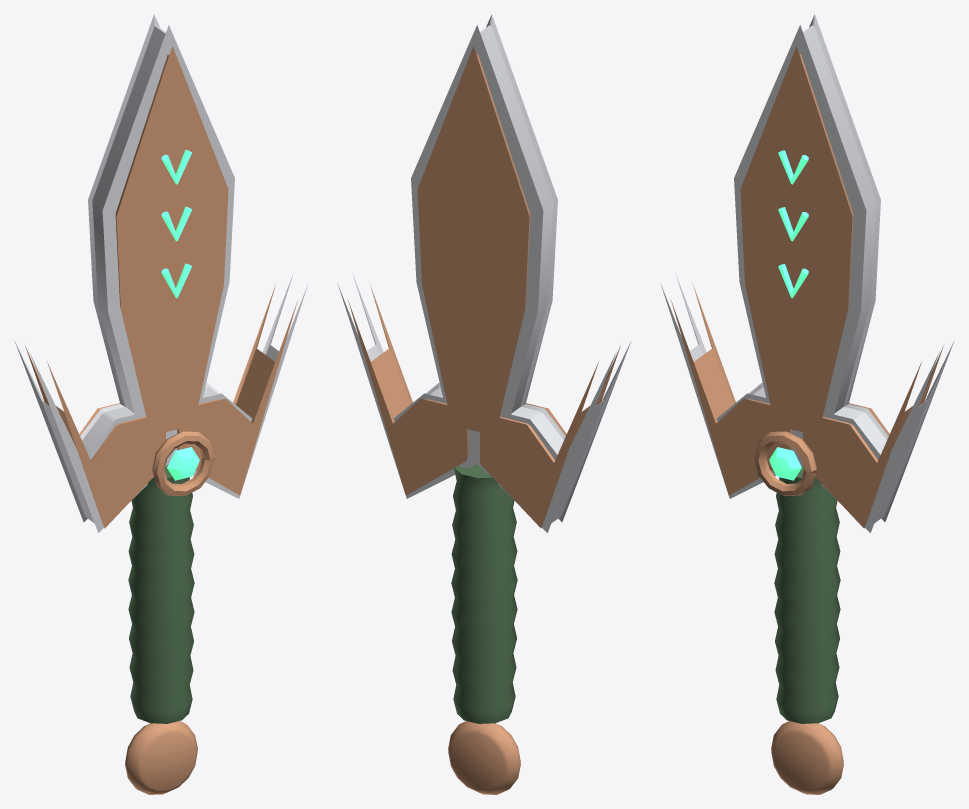
Rendered from artisan_glass_leaf_dagger.glb.
The picture shows the model from 3 angles, left to right: view 1: azimuth 30°, elevation 25°; view 2: azimuth 150°, elevation 25°; view 3: azimuth 330°, elevation 25°; orthographic projection.
Visible parts, largest first — view 1: artisan_glass_leaf_dagger; view 2: artisan_glass_leaf_dagger; view 3: artisan_glass_leaf_dagger.
Boxes of the visible parts, left/top/right/bottom form: artisan_glass_leaf_dagger: left=14, top=14, right=308, bottom=794; artisan_glass_leaf_dagger: left=337, top=14, right=631, bottom=794; artisan_glass_leaf_dagger: left=660, top=14, right=954, bottom=794.
Size of the model in its own units: 0.1995 by 0.5265 by 0.0539.
